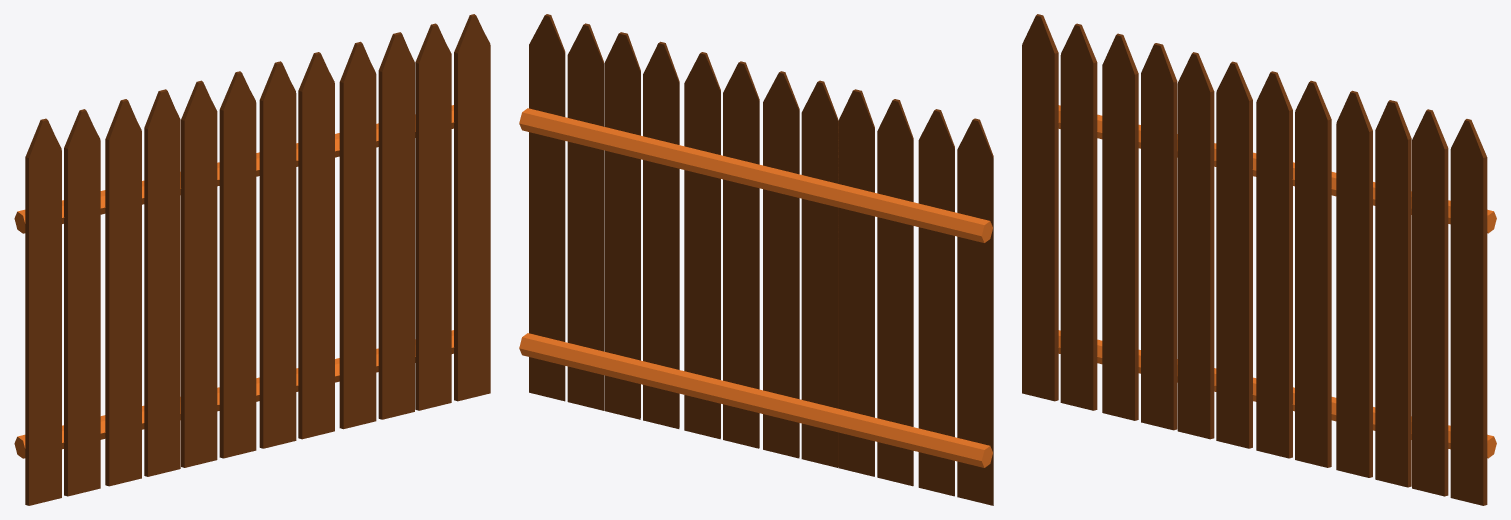
File: Zabor dlin .fbx
3 views of the same model, side by side, from view 1: azimuth 30°, elevation 25°; view 2: azimuth 150°, elevation 25°; view 3: azimuth 330°, elevation 25° (orthographic).
Parts seen in each view (by area): view 1: Cube.001, Cube.005, Cylinder.003, Cylinder.002; view 2: Cube.005, Cube.001, Cylinder.002, Cylinder.003; view 3: Cube.001, Cube.005, Cylinder.002, Cylinder.003.
Boxes of the visible parts, <box> form: Cube.001: <box>259,14,490,448</box>; Cube.005: <box>25,71,256,505</box>; Cylinder.003: <box>14,330,454,458</box>; Cylinder.002: <box>14,105,454,233</box>; Cube.005: <box>763,71,993,505</box>; Cube.001: <box>529,14,759,448</box>; Cylinder.002: <box>519,108,992,242</box>; Cylinder.003: <box>519,333,992,467</box>; Cube.001: <box>1256,71,1487,505</box>; Cube.005: <box>1022,14,1252,448</box>; Cylinder.002: <box>1058,105,1496,233</box>; Cylinder.003: <box>1058,330,1496,458</box>.
Bounding box in the file's own units: 1167 × 915 × 58.26.
